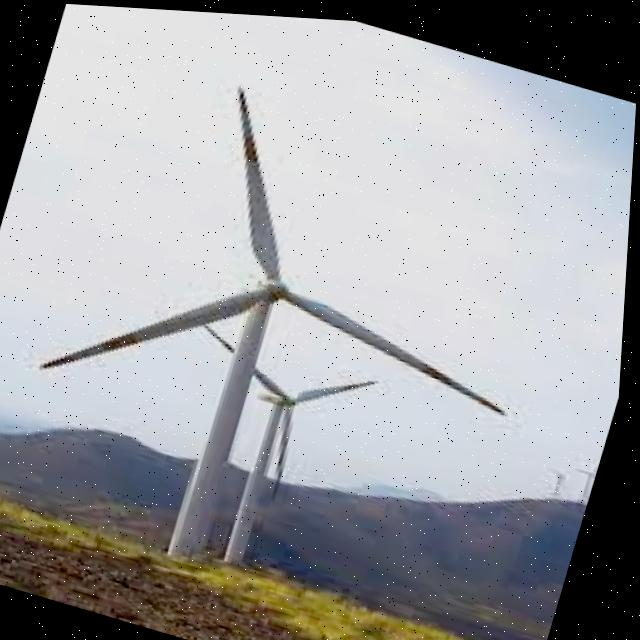solid-blade: (284, 286, 509, 407), (49, 286, 277, 368), (240, 84, 280, 280)
wind-turbine: (46, 84, 509, 552), (229, 365, 380, 561)
